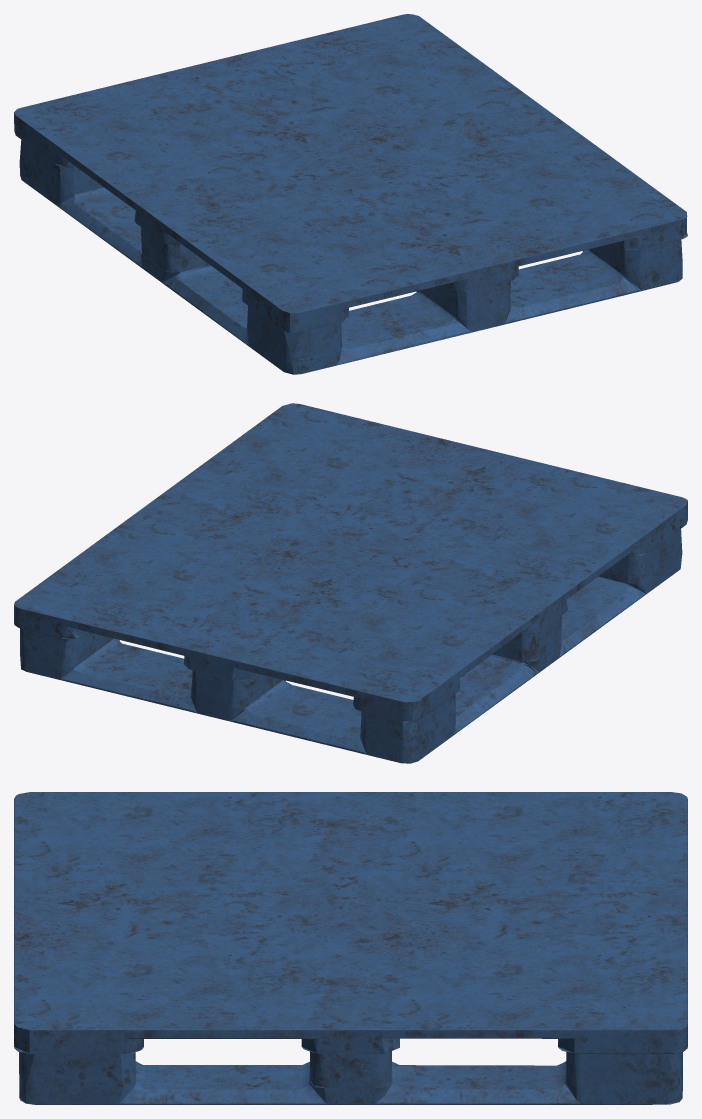
Rendered from shelter_a_roof_pallet.glb.
3 views of the same model, one above another, from view 1: azimuth 30°, elevation 25°; view 2: azimuth 150°, elevation 25°; view 3: azimuth 270°, elevation 25° (orthographic). The views are drawn at different scales.
Visible parts, largest first — view 1: shelter_a_roof_pallet; view 2: shelter_a_roof_pallet; view 3: shelter_a_roof_pallet.
Part boxes in pixels (left/top/right/bottom): shelter_a_roof_pallet: left=14, top=14, right=687, bottom=374; shelter_a_roof_pallet: left=14, top=403, right=687, bottom=763; shelter_a_roof_pallet: left=14, top=792, right=687, bottom=1104.
Size of the model in its own units: 1.01 by 0.1534 by 1.21.
1 material, 1 textured.
